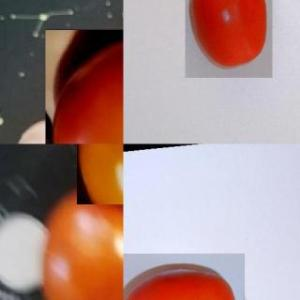tomato: (40, 190, 123, 300), (46, 30, 122, 144), (184, 1, 272, 77), (123, 253, 244, 299)
